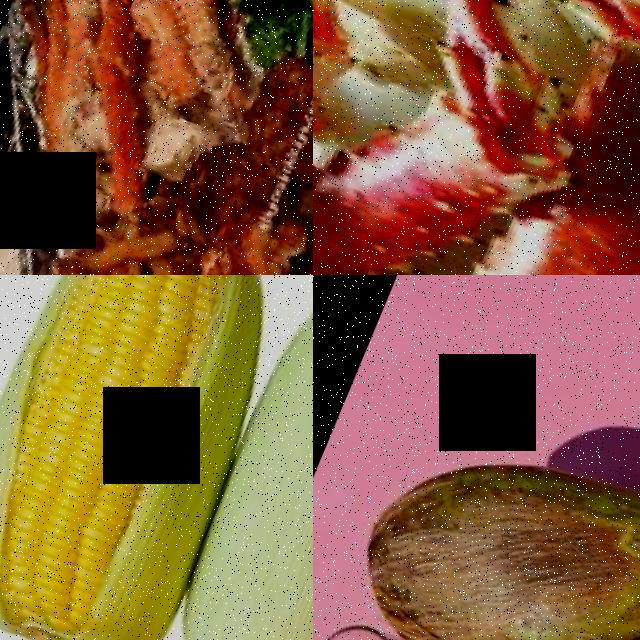coconut: (338, 394, 640, 640)
corn: (0, 275, 284, 640)
crab: (313, 0, 640, 275), (0, 0, 223, 229)
